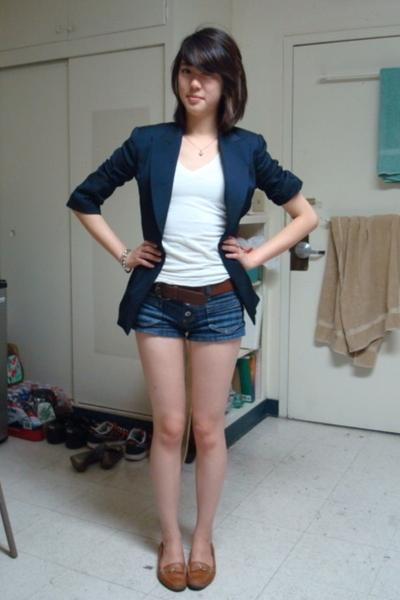jacket: (67, 123, 302, 334)
shirt: (156, 157, 229, 286)
shoe: (157, 546, 215, 591)
shorts: (136, 292, 244, 343)
